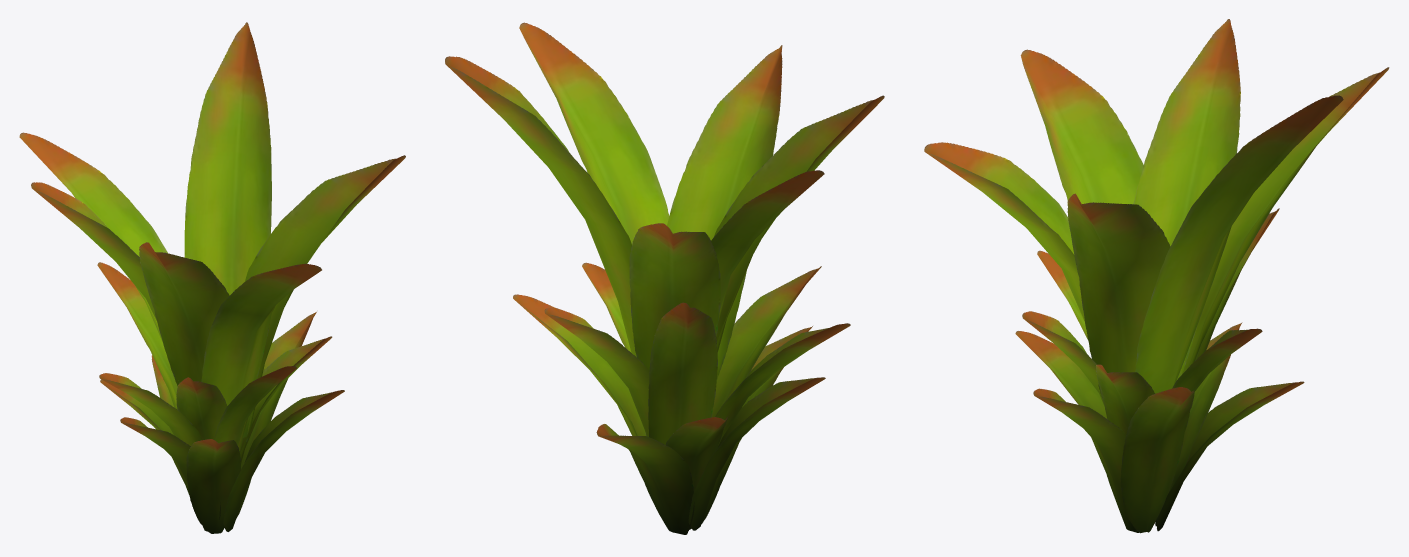
Rendered from Plant_1_Big.glb.
3 views of the same model, side by side, from view 1: azimuth 30°, elevation 25°; view 2: azimuth 150°, elevation 25°; view 3: azimuth 270°, elevation 25° (orthographic). The views are drawn at different scales.
Visible parts, largest first — view 1: Plant_1_Big; view 2: Plant_1_Big; view 3: Plant_1_Big.
Part boxes in pixels (x1,y1,x2,y2): Plant_1_Big: (19, 22, 405, 533); Plant_1_Big: (445, 22, 884, 534); Plant_1_Big: (924, 19, 1389, 533).
Size of the model in its own units: 1.81 by 2.35 by 1.95.
1 material, 1 textured.
